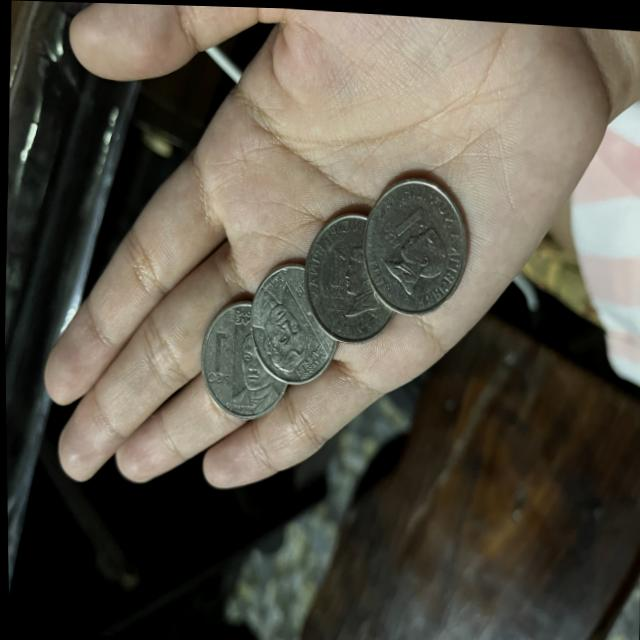1_New_Front: (248, 276, 326, 369), (209, 321, 273, 404)
1_Old_Front: (377, 200, 451, 292), (322, 237, 384, 316)
